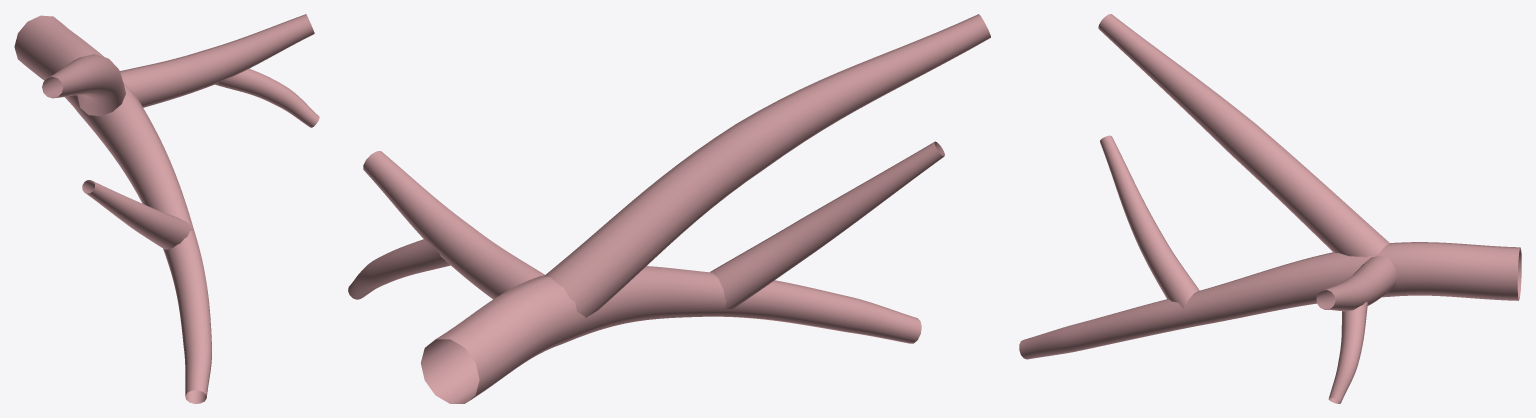
3 views of the same model, side by side, from view 1: azimuth 30°, elevation 25°; view 2: azimuth 150°, elevation 25°; view 3: azimuth 270°, elevation 25° (orthographic). The views are drawn at different scales.
Parts seen in each view (by area): view 1: ZA_1d93aa4bc60c9a11; view 2: ZA_1d93aa4bc60c9a11; view 3: ZA_1d93aa4bc60c9a11.
Part boxes in pixels (x1,y1,x2,y2): ZA_1d93aa4bc60c9a11: [14, 14, 319, 403]; ZA_1d93aa4bc60c9a11: [348, 14, 990, 403]; ZA_1d93aa4bc60c9a11: [1019, 14, 1521, 403].
Bounding box in the file's own units: 0.0635 × 0.049 × 0.0748.
